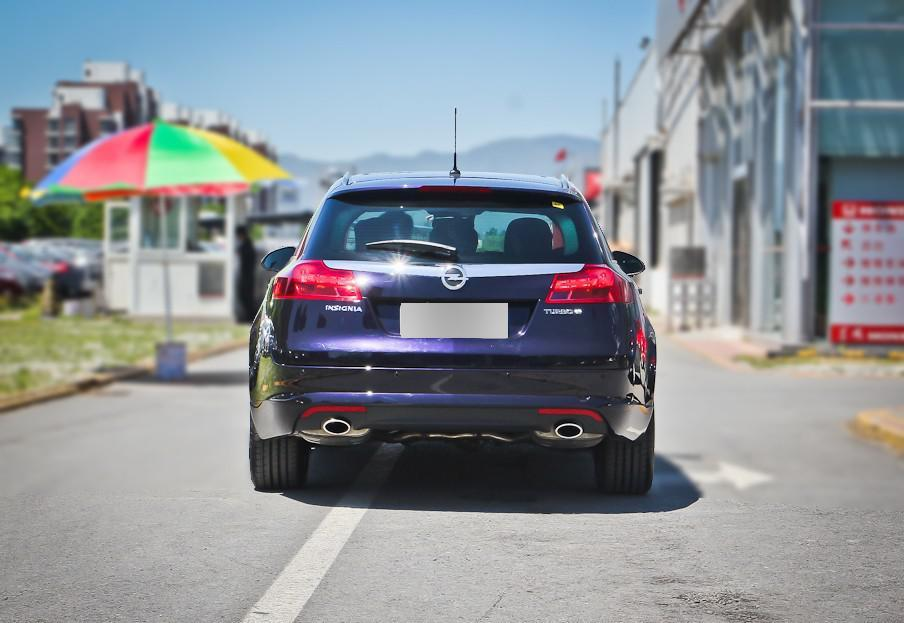Wagon: (250, 171, 657, 496)
